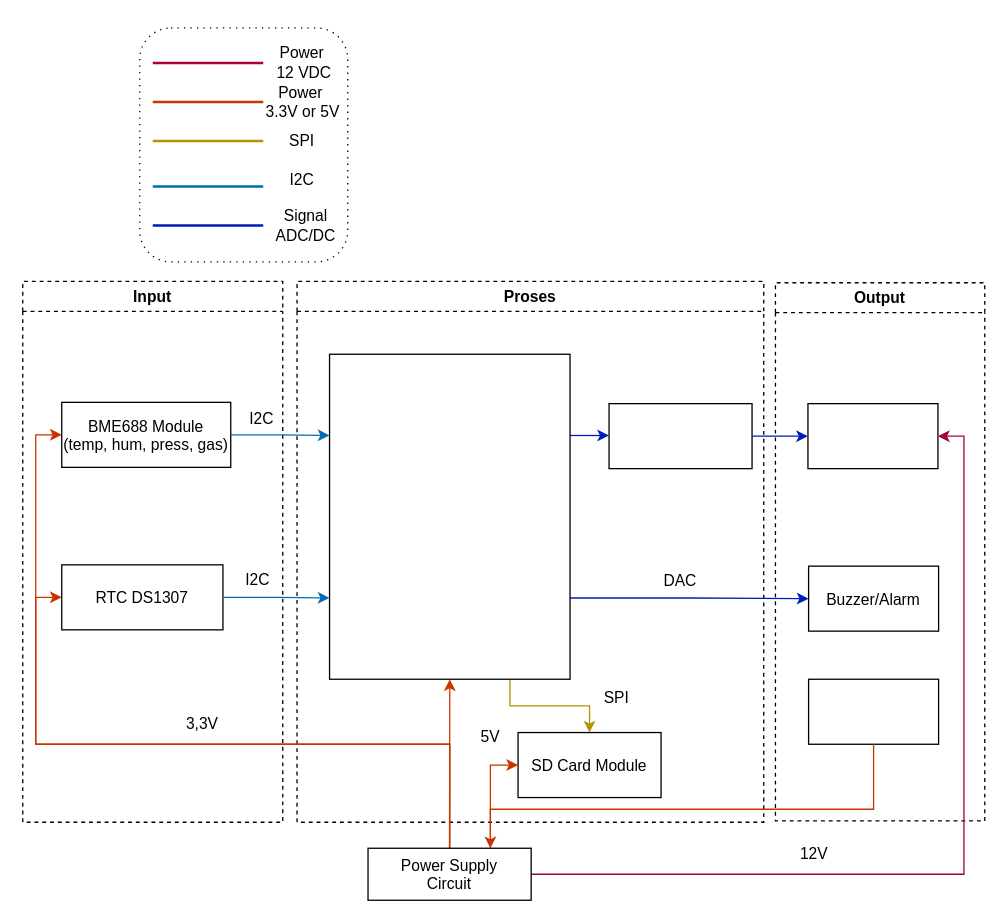
Image size: 1007x923. Some labels were removed from this diagram. Each missing label, with the box of its shape:
ESP32 DEVKIT (38 Pins): (328, 353, 570, 679)
Fan (3x3 cm): (807, 678, 939, 744)
HUB75: (608, 402, 752, 469)
LED Panel P5 (128x32): (807, 402, 938, 469)
